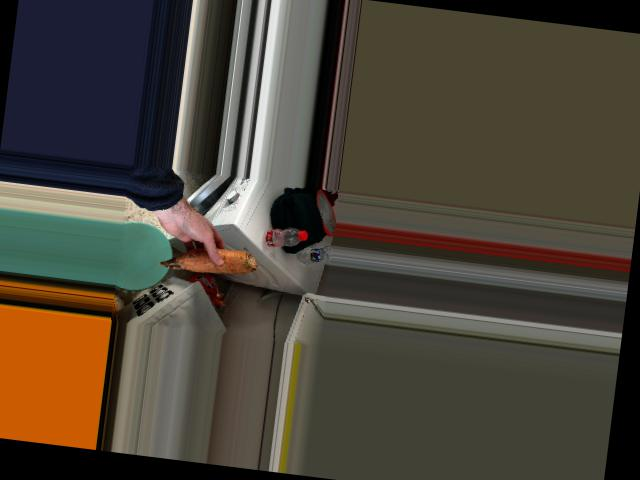sweet_potato: (157, 234, 264, 286)
